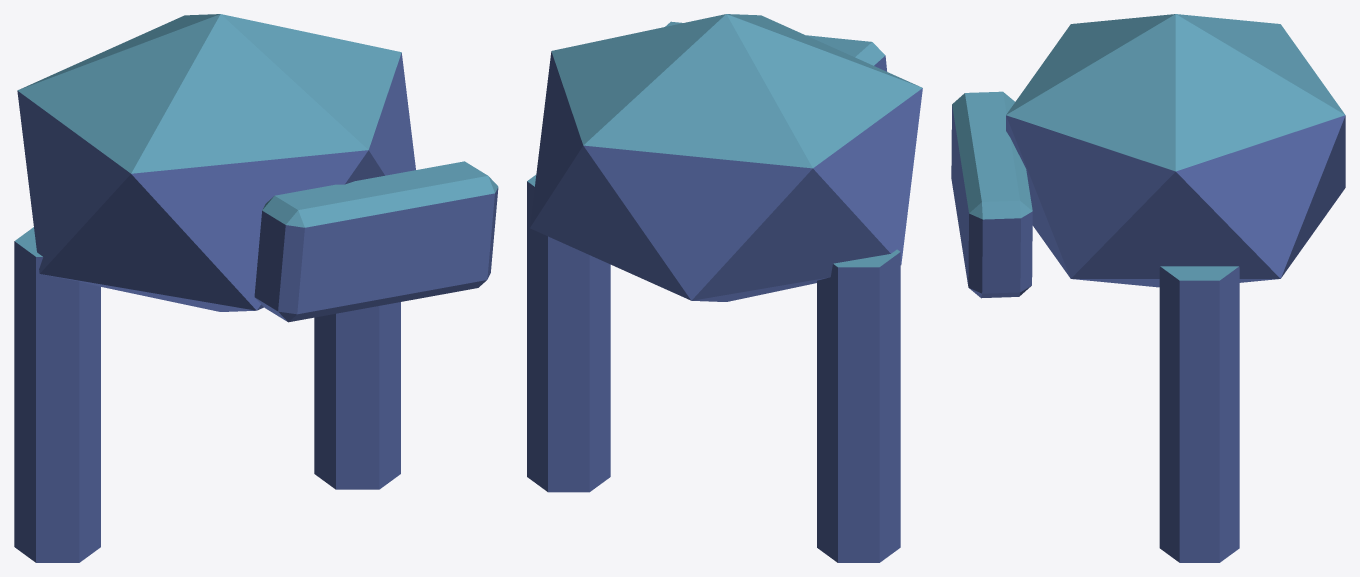
Rendered from npc_module_hair_4_v01.glb.
3 renders of one model, left to right at view 1: azimuth 30°, elevation 25°; view 2: azimuth 150°, elevation 25°; view 3: azimuth 270°, elevation 25°, orthographic. The views are drawn at different scales.
Visible parts, largest first — view 1: GEO_npc_module_hair_4_v01; view 2: GEO_npc_module_hair_4_v01; view 3: GEO_npc_module_hair_4_v01.
Part boxes in pixels (x1=…): GEO_npc_module_hair_4_v01: x1=14, y1=14, x2=498, y2=562; GEO_npc_module_hair_4_v01: x1=527, y1=14, x2=922, y2=562; GEO_npc_module_hair_4_v01: x1=951, y1=14, x2=1345, y2=562.
Size of the model in its own units: 0.9732 by 1.29 by 0.9872.
